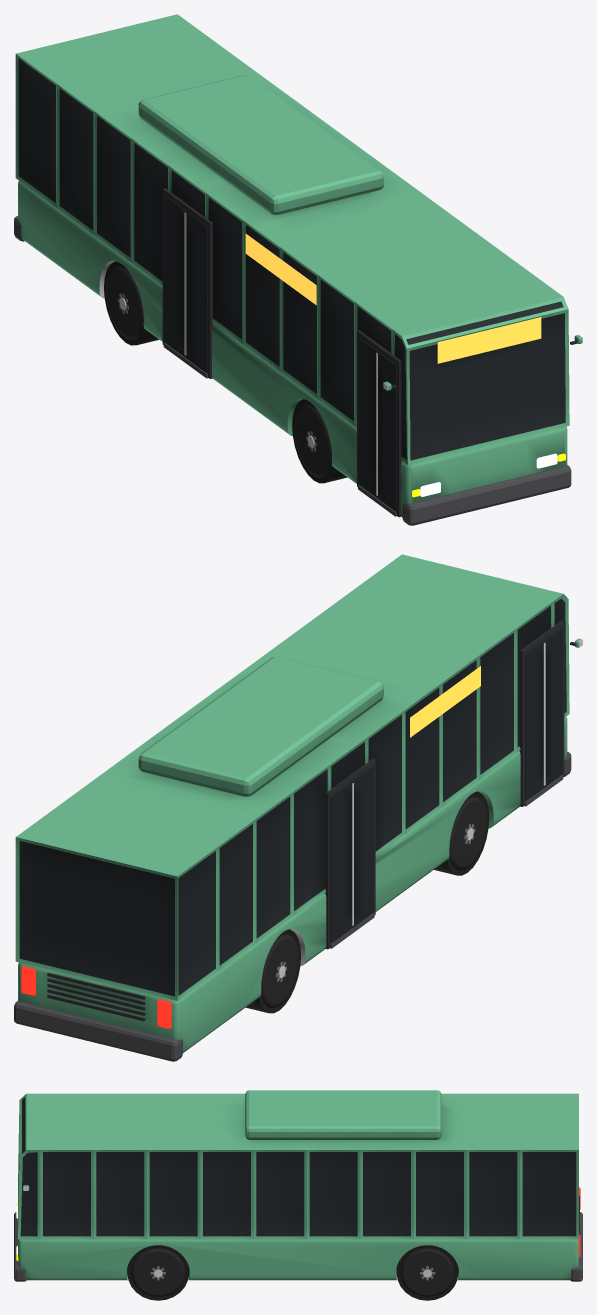
Rendered from car_bus.glb.
3 renders of one model, top to bottom at view 1: azimuth 30°, elevation 25°; view 2: azimuth 150°, elevation 25°; view 3: azimuth 270°, elevation 25°, orthographic. The views are drawn at different scales.
Parts seen in each view (by area): view 1: body, sign_route, w_FL, w_RL, sign_side; view 2: body, w_FL, w_RL, sign_side; view 3: body, w_FR, w_RR.
Boxes of the visible parts, x1,y1,x2,y2 form: body: [14, 14, 582, 525]; sign_route: [437, 317, 541, 363]; w_FL: [294, 404, 331, 477]; w_RL: [106, 266, 143, 340]; sign_side: [245, 233, 316, 305]; body: [14, 554, 582, 1061]; w_FL: [449, 796, 486, 870]; w_RL: [261, 934, 298, 1008]; sign_side: [410, 666, 480, 737]; body: [14, 1090, 582, 1300]; w_FR: [131, 1248, 185, 1296]; w_RR: [400, 1248, 454, 1296].
Size of the model in its own units: 3.03 by 3.42 by 10.65.
